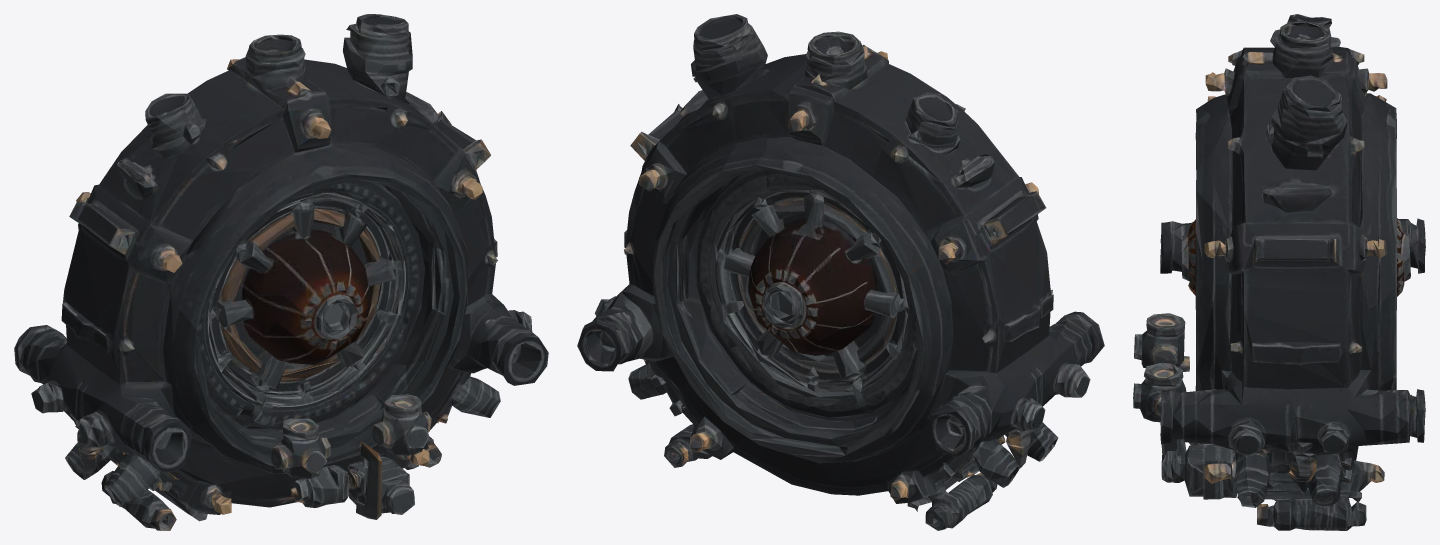
File: engine_bell.glb
3 renders of one model, left to right at view 1: azimuth 30°, elevation 25°; view 2: azimuth 150°, elevation 25°; view 3: azimuth 270°, elevation 25°, orthographic. The views are drawn at different scales.
Parts seen in each view (by area): view 1: output_unwrapped; view 2: output_unwrapped; view 3: output_unwrapped.
Boxes of the visible parts, <box> form: output_unwrapped: <box>14,14,548,530</box>; output_unwrapped: <box>577,14,1104,530</box>; output_unwrapped: <box>1133,14,1425,530</box>.
Size of the model in its own units: 1.9 by 1.82 by 1.1.
Materials: 1 (1 with a texture image).
